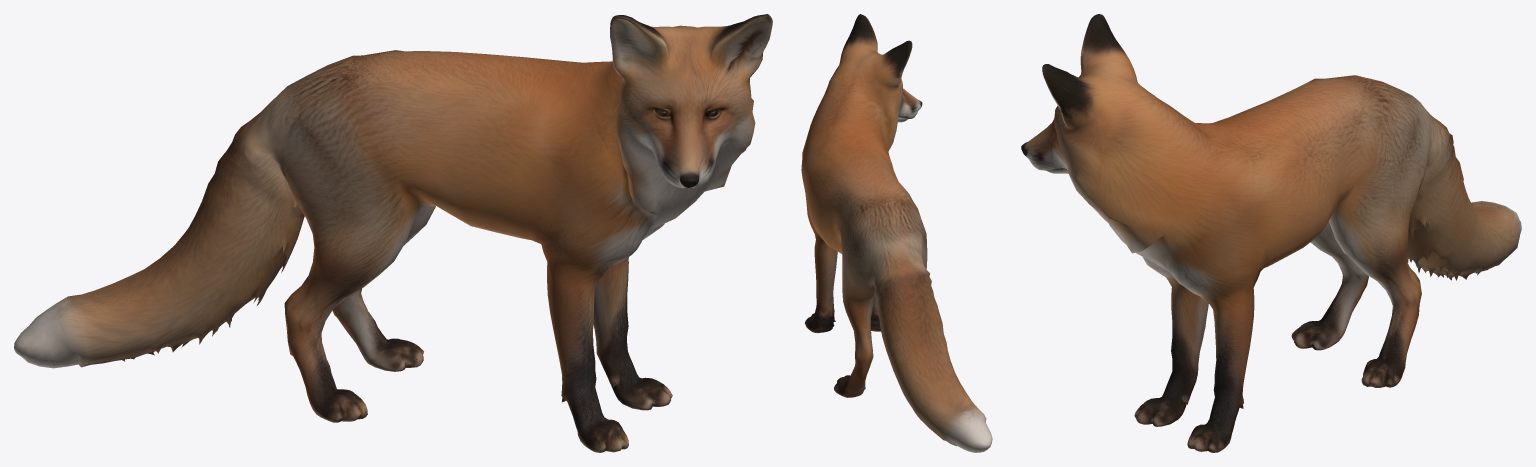
File: texture.glb
3 renders of one model, left to right at view 1: azimuth 30°, elevation 25°; view 2: azimuth 150°, elevation 25°; view 3: azimuth 270°, elevation 25°, orthographic. The views are drawn at different scales.
Visible parts, largest first — view 1: tripo_6c1bb29a_791f_4804_89e0_1d0bbabf5317; view 2: tripo_6c1bb29a_791f_4804_89e0_1d0bbabf5317; view 3: tripo_6c1bb29a_791f_4804_89e0_1d0bbabf5317.
Boxes of the visible parts, x1,y1,x2,y2 form: tripo_6c1bb29a_791f_4804_89e0_1d0bbabf5317: (14,14,772,452); tripo_6c1bb29a_791f_4804_89e0_1d0bbabf5317: (801,14,992,452); tripo_6c1bb29a_791f_4804_89e0_1d0bbabf5317: (1021,14,1521,452).
Size of the model in its own units: 0.9995 by 0.8628 by 0.9839.
1 material, 1 textured.
